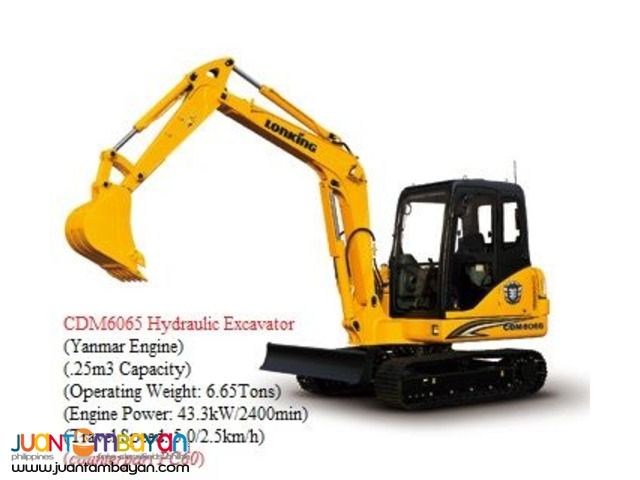backhoe: (64, 54, 558, 412)
